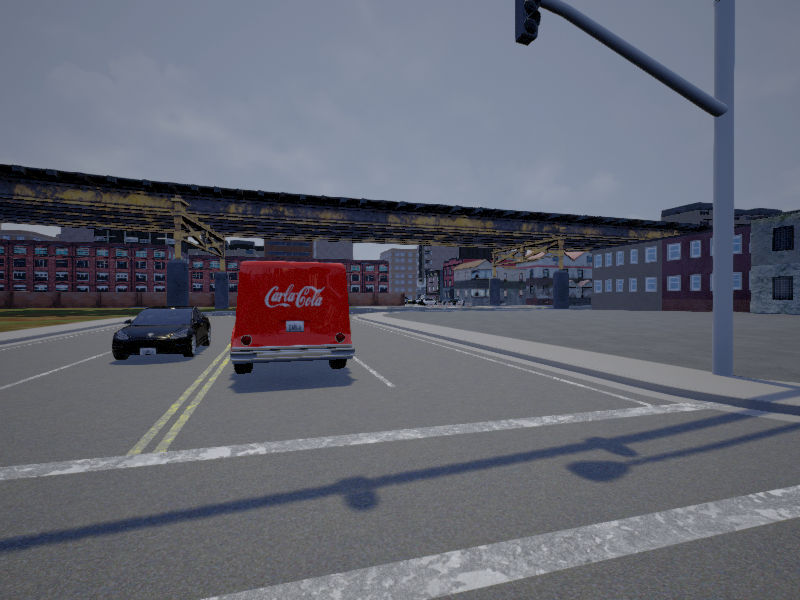Benign: (229, 260, 348, 376), (112, 306, 211, 361)
